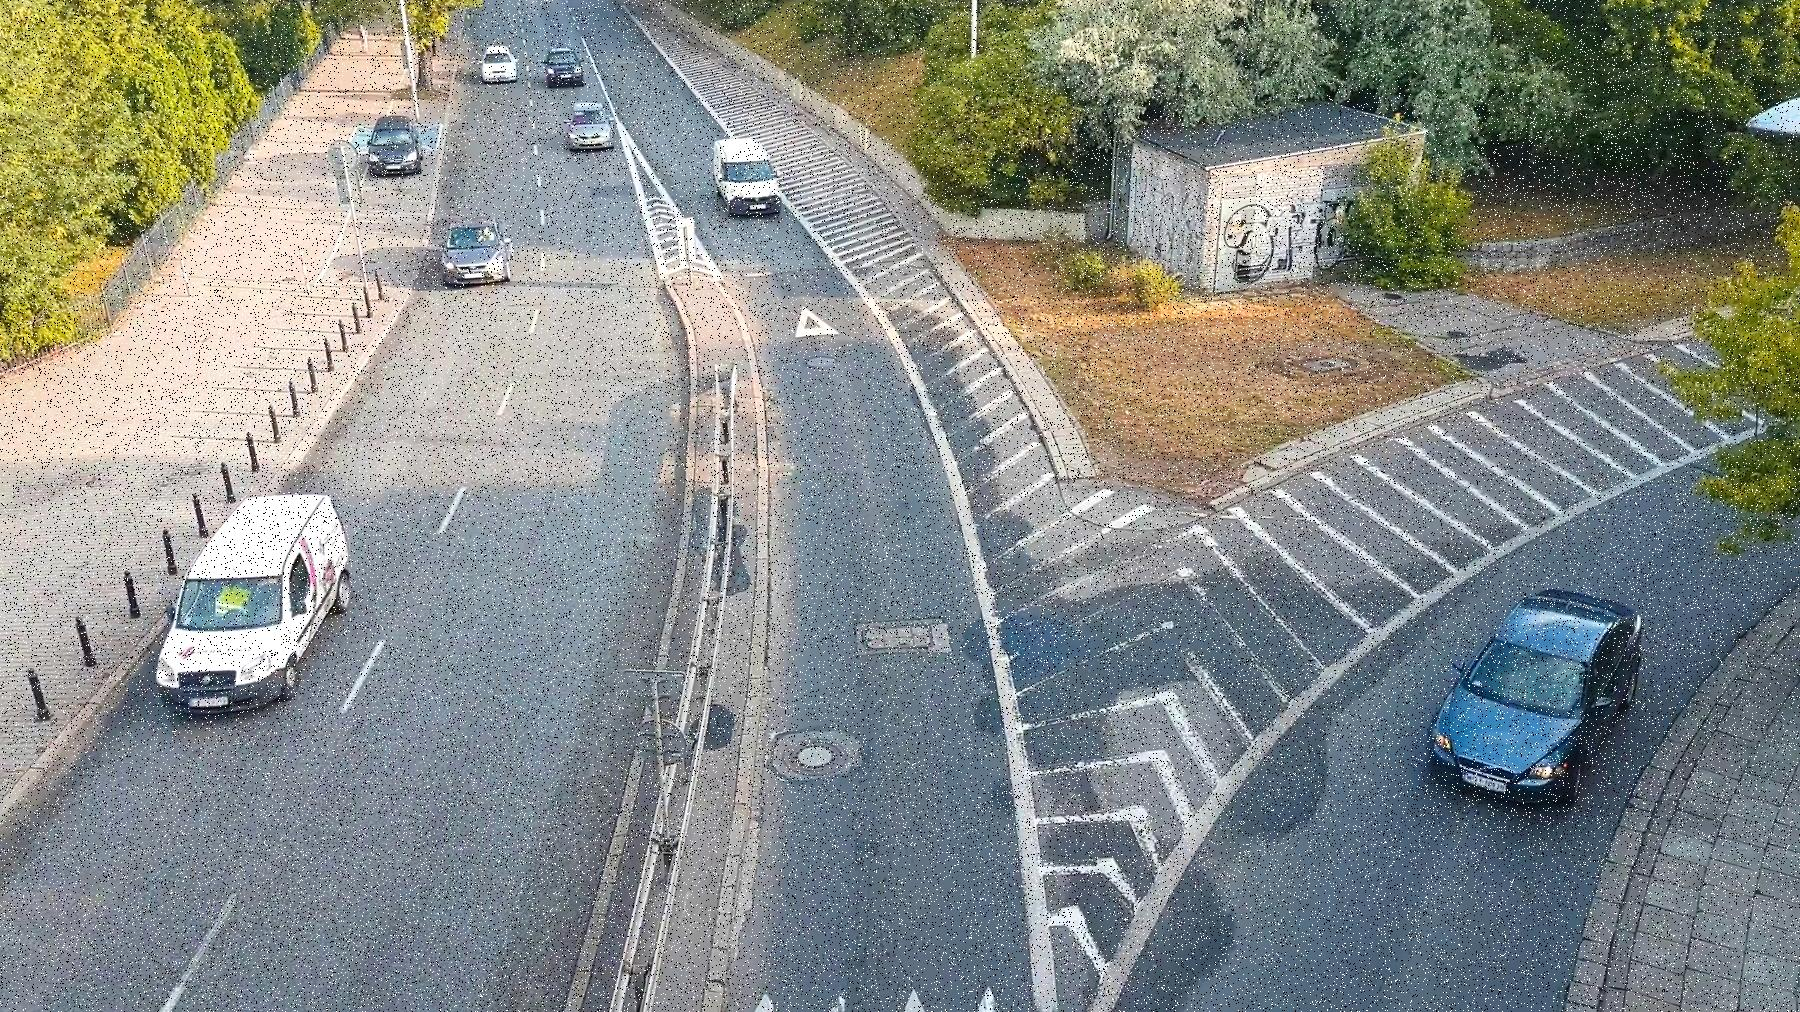car: (1417, 593, 1660, 817), (152, 478, 352, 732), (702, 132, 795, 224), (430, 206, 519, 297), (357, 106, 431, 185), (564, 96, 617, 156), (538, 44, 591, 89), (476, 41, 517, 84)
